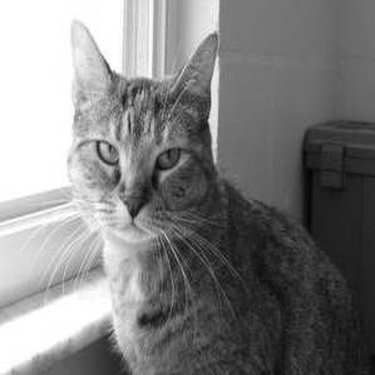cat: (40, 15, 367, 368)
